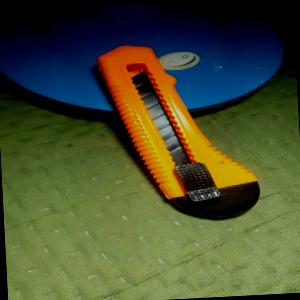estilete: (95, 37, 262, 222)
